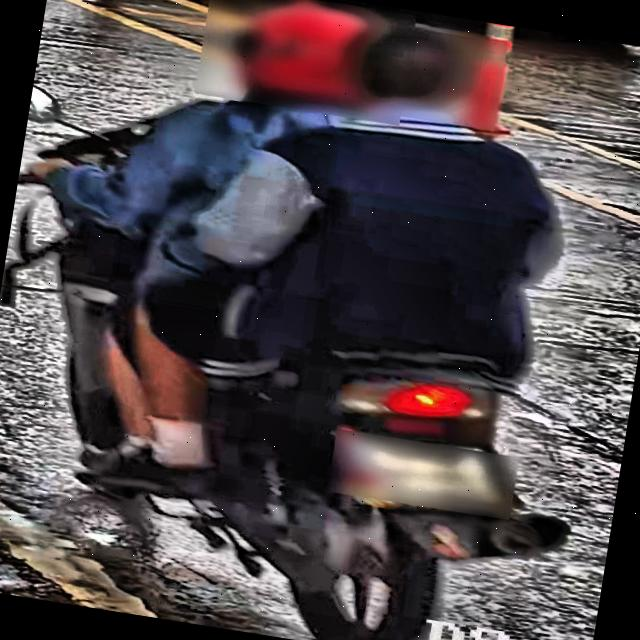motorcycle: (0, 62, 625, 640)
